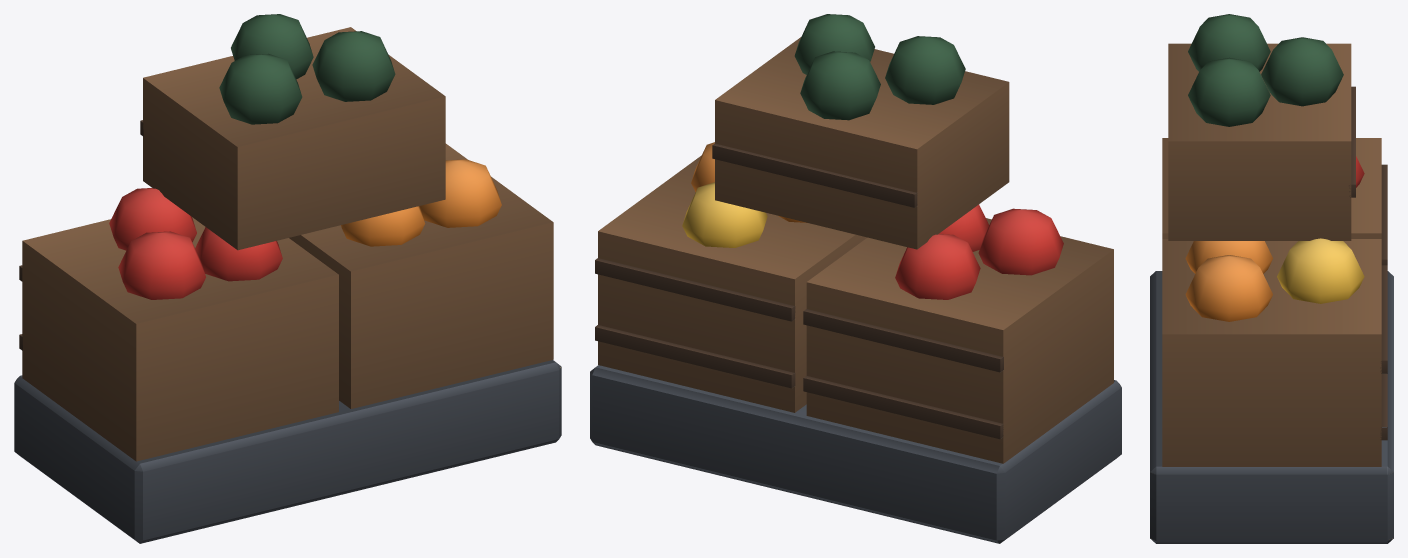
Rendered from ck_fruit_crates.fbx.
3 views of the same model, side by side, from view 1: azimuth 30°, elevation 25°; view 2: azimuth 150°, elevation 25°; view 3: azimuth 270°, elevation 25° (orthographic). The views are drawn at different scales.
Visible parts, largest first — view 1: ck_fruit_crates; view 2: ck_fruit_crates; view 3: ck_fruit_crates.
Part boxes in pixels (x1,y1,x2,y2): ck_fruit_crates: (14, 14, 561, 543); ck_fruit_crates: (590, 14, 1121, 543); ck_fruit_crates: (1150, 14, 1393, 543).
Bounding box in the file's own units: 390 × 368 × 200.
